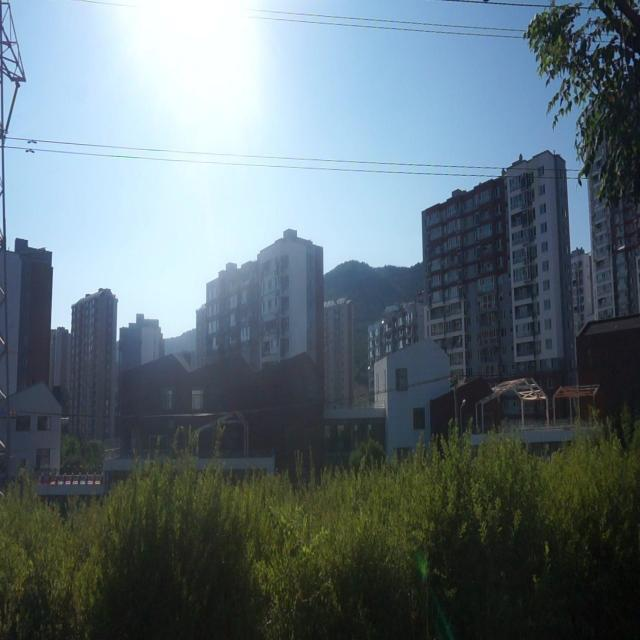UAV: (415, 290, 424, 297)
